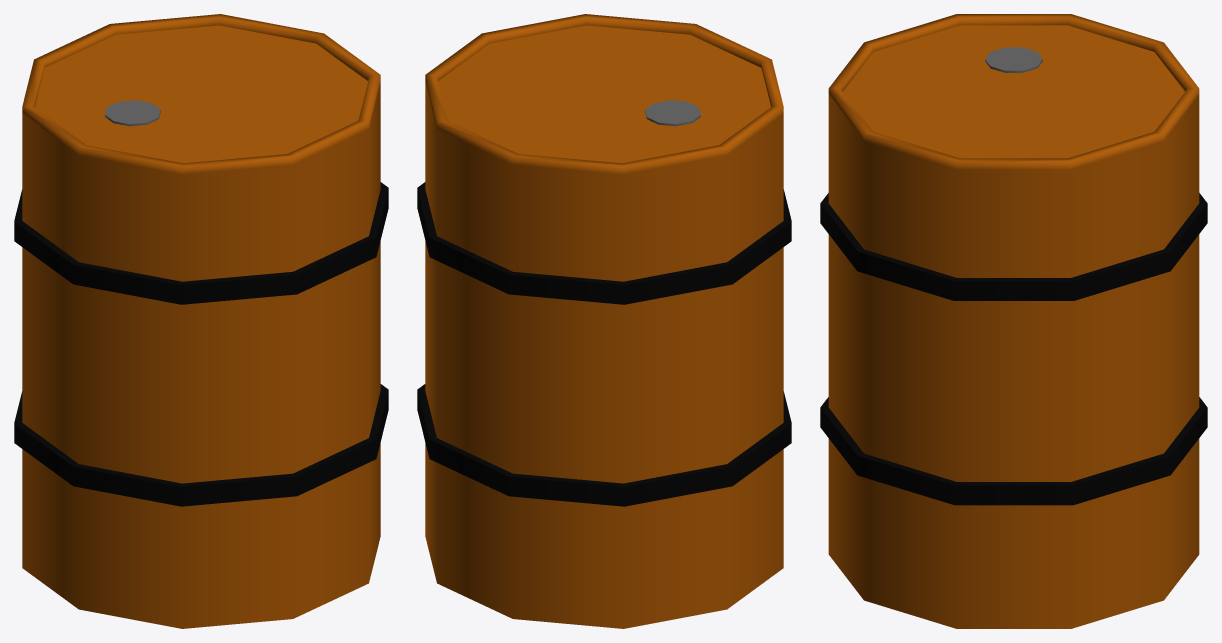
Rendered from Oil Barrel.fbx.
3 renders of one model, left to right at view 1: azimuth 30°, elevation 25°; view 2: azimuth 150°, elevation 25°; view 3: azimuth 270°, elevation 25°, orthographic.
Parts seen in each view (by area): view 1: Oil Barrel; view 2: Oil Barrel; view 3: Oil Barrel.
Part boxes in pixels (x1,y1,x2,y2): Oil Barrel: [14, 14, 388, 628]; Oil Barrel: [417, 14, 791, 628]; Oil Barrel: [820, 14, 1207, 628].
Bounding box in the file's own units: 1.27 × 1.33 × 1.77.
